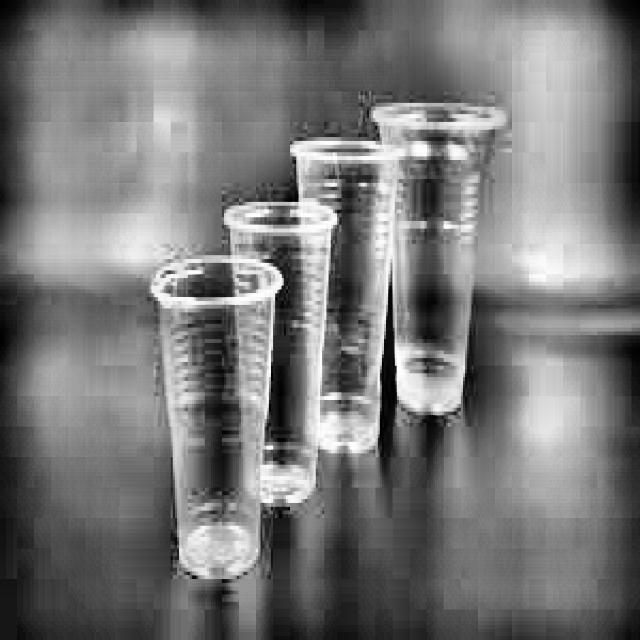plastic cup: (381, 80, 502, 414), (154, 239, 270, 582), (225, 193, 339, 502), (295, 122, 389, 459)
